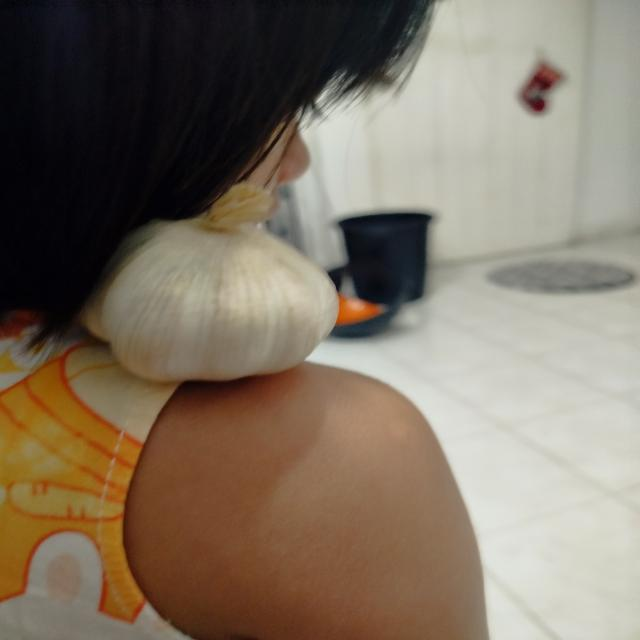garlic: (53, 175, 340, 398)
